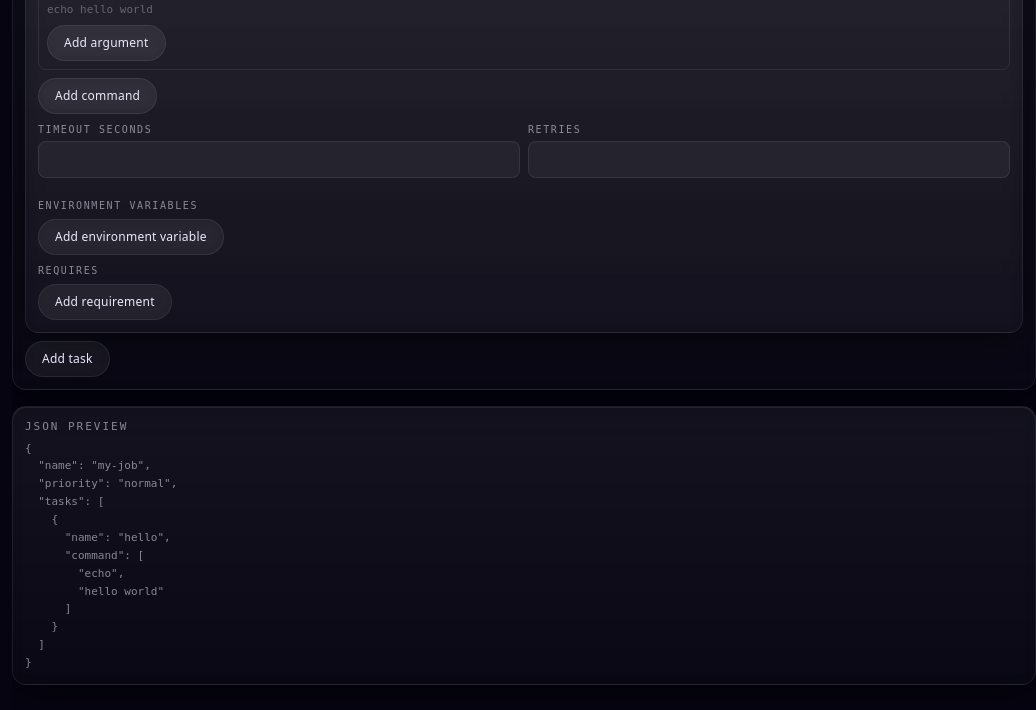
Scenario: adding a task moves focus to the new row name input and announces it
The image size is (1036, 710).
(page scrolled)
Step 1. Click the button "Add task" → (67, 359), box [25,341,110,377]
(page scrolled)
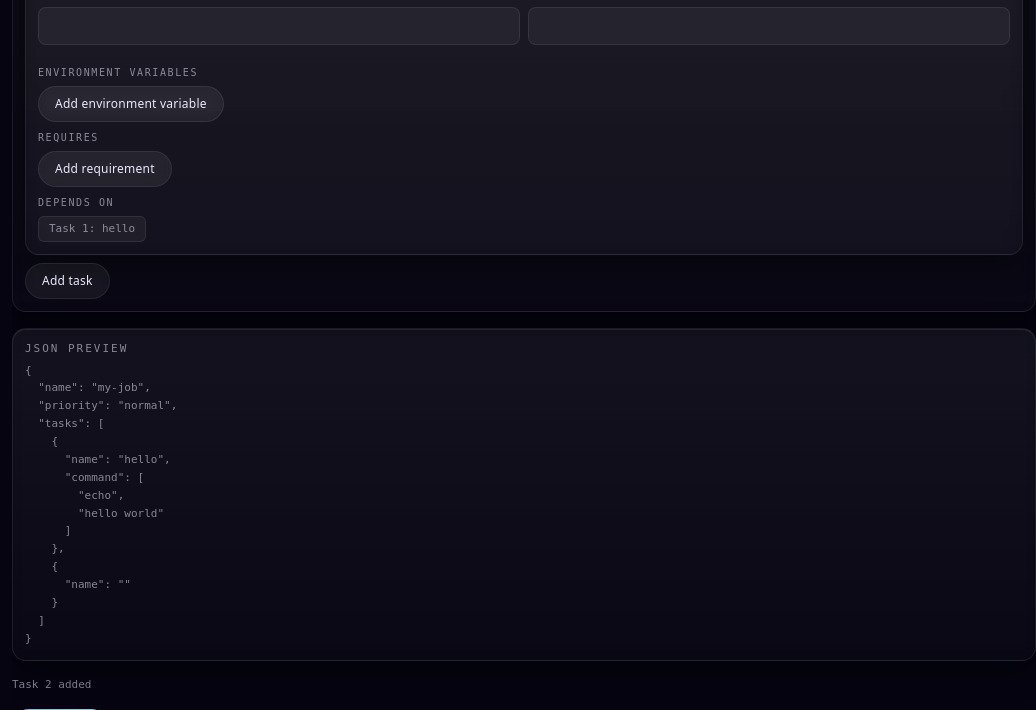
expect the message reads "Task 2 added": met, box [12,678,92,690]
